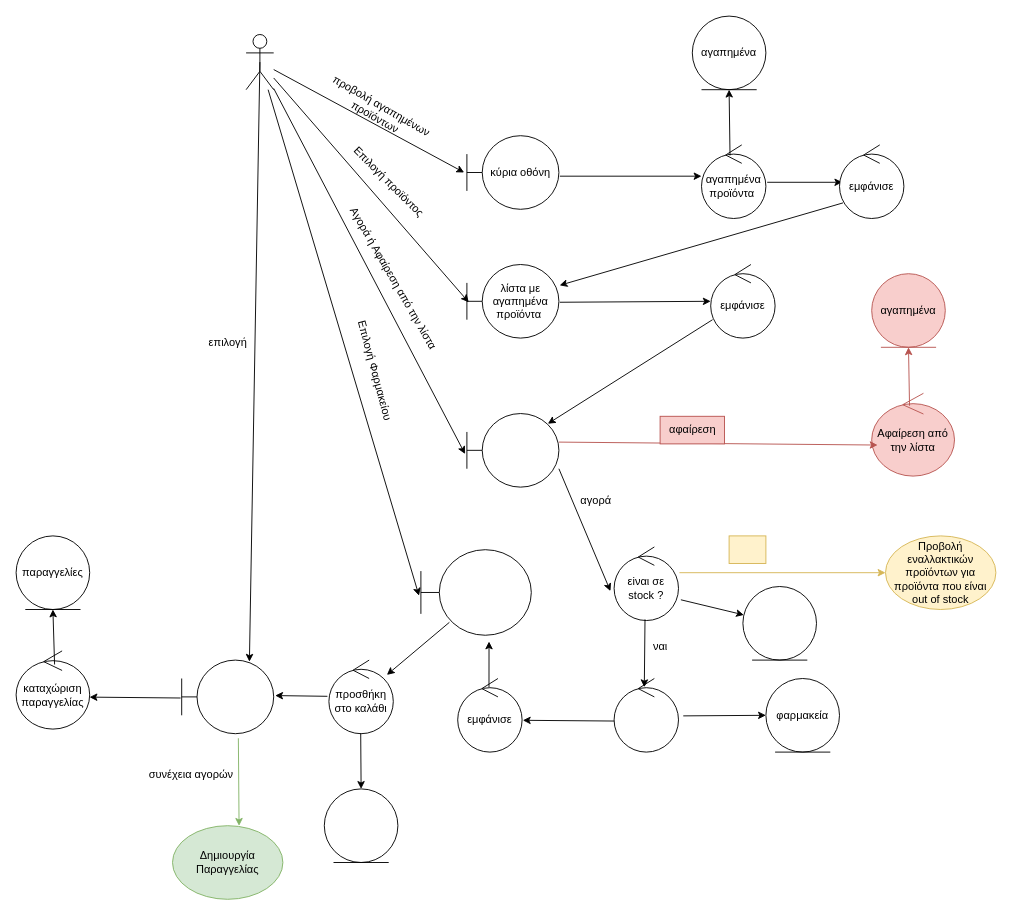
This 1012x915 diagram has some shape labels left out. Here are the shapes that lost their labels. From the top down, the centre of each, then its label:
the point at 259,62: χρήστης
the point at 512,450: Αγορά ή Αφαίρεση απο την λίστα
the point at 747,549: οχι
the point at 475,592: οθόνη με τα φαρμακεία που ειναι διαθέσιμο το προϊόν
the point at 779,623: προϊόντα
the point at 227,696: συνέχεια αγορών ή ολοκλήρωση παραγγελίας
the point at 645,715: εύρεση φαρμακείων
the point at 360,825: καλάθι
